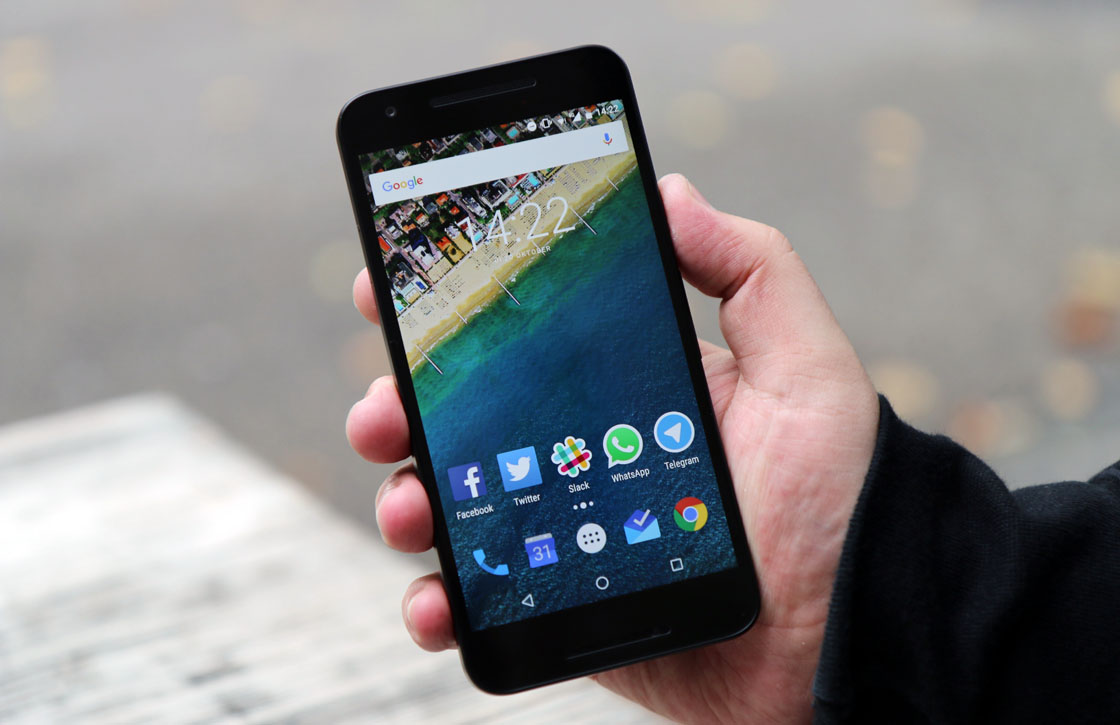smartphone: (335, 43, 763, 695)
